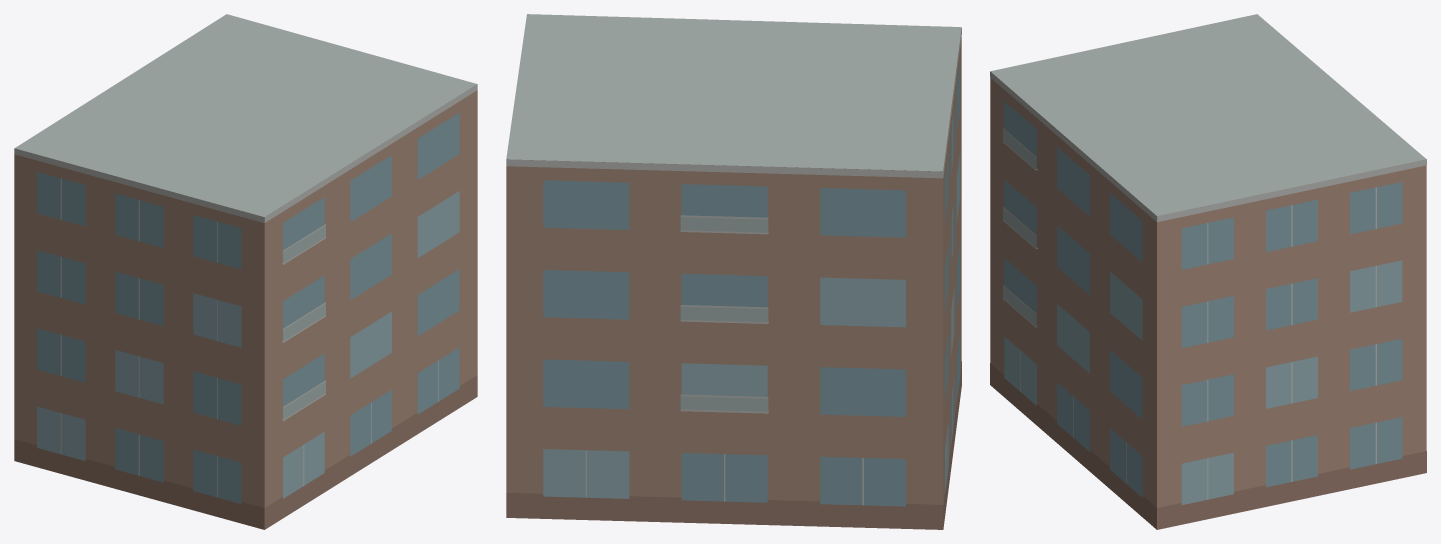
Rendered from survey-upis-32725799.glb.
3 renders of one model, left to right at view 1: azimuth 30°, elevation 25°; view 2: azimuth 150°, elevation 25°; view 3: azimuth 270°, elevation 25°, orthographic. The views are drawn at different scales.
Visible parts, largest first — view 1: survey-upis-32725799.tmp; view 2: survey-upis-32725799.tmp; view 3: survey-upis-32725799.tmp.
Boxes of the visible parts, box(x1,y1,x2,y2) form: survey-upis-32725799.tmp: box(14, 14, 477, 529); survey-upis-32725799.tmp: box(506, 14, 961, 529); survey-upis-32725799.tmp: box(990, 14, 1426, 529).
Size of the model in its own units: 17.57 by 12.7 by 16.03.
